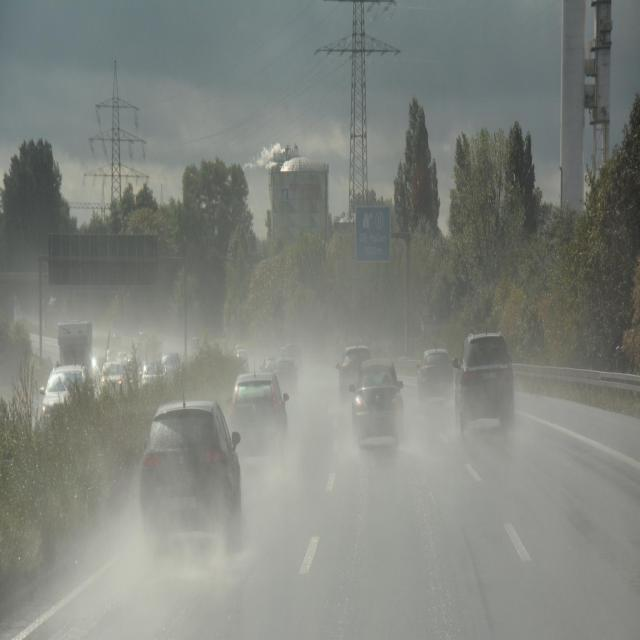Car: (139, 406, 241, 553), (452, 331, 514, 432), (226, 365, 292, 459), (349, 360, 409, 446)
